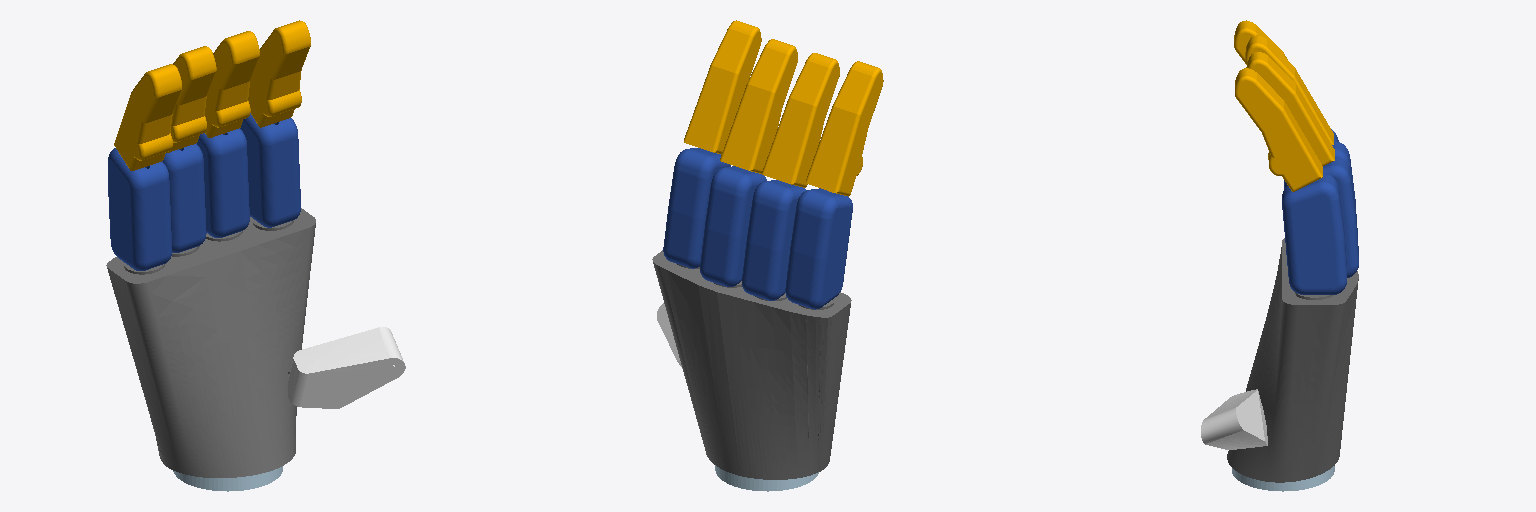
The robot description file, URDF, robot "onshape":
<robot name="onshape">
<link name="fb_palm_ref_mir_v5">
<visual>
<origin xyz="-0.003872314138682364168 -0.0071868913738217625464 -0.028909163027282983038" rpy="0 -0 0" />
<geometry>
<mesh filename="./wrist.stl"/>
</geometry>
<material name="wrist_material">
<color rgba="0.76862745098039220171 0.88627450980392152857 0.95294117647058818044 1.0"/>
</material>
</visual>
<collision>
<origin xyz="-0.003872314138682364168 -0.0071868913738217625464 -0.028909163027282983038" rpy="0 -0 0" />
<geometry>
<mesh filename="./wrist.stl"/>
</geometry>
</collision>
<visual>
<origin xyz="0.001066406426528377499 -0.0078468492029091889417 -0.021502863120379678979" rpy="-3.1415716311473289579 -0.088555241482479646331 0" />
<geometry>
<mesh filename="./palm.stl"/>
</geometry>
<material name="palm_material">
<color rgba="0.49803921568627451677 0.49803921568627451677 0.49803921568627451677 1.0"/>
</material>
</visual>
<collision>
<origin xyz="0.001066406426528377499 -0.0078468492029091889417 -0.021502863120379678979" rpy="-3.1415716311473289579 -0.088555241482479646331 0" />
<geometry>
<mesh filename="./palm.stl"/>
</geometry>
</collision>
<inertial>
<origin xyz="-0.0038105787339101984679 -0.0058483274685780213889 -0.019910745106455077919" rpy="0 0 0"/>
<mass value="0.0099179440012525446613" />
<inertia ixx="2.7342953765124291794e-07" ixy="-2.5766852703422248266e-09"  ixz="-7.76797436656968307e-09" iyy="3.467387707633750814e-07" iyz="-3.9076227236606035877e-08" izz="1.5344148801571052959e-07" />
</inertial>
</link>

<link name="idx-f1_v3">
<visual>
<origin xyz="1.4699462580549348123e-05 0.00097723995259920391765 -1.084202172485504434e-19" rpy="3.7930245966227260056e-18 -7.5322549308026134352e-17 1.5458638384718461634" />
<geometry>
<mesh filename="./index_1.stl"/>
</geometry>
<material name="index_1_material">
<color rgba="0.2313725490196078538 0.38039215686274507888 0.7058823529411765163 1.0"/>
</material>
</visual>
<collision>
<origin xyz="1.4699462580549348123e-05 0.00097723995259920391765 -1.084202172485504434e-19" rpy="3.7930245966227260056e-18 -7.5322549308026134352e-17 1.5458638384718461634" />
<geometry>
<mesh filename="./index_1.stl"/>
</geometry>
</collision>
<inertial>
<origin xyz="3.2112843083721671162e-05 0.0044842994521085578069 -4.7737139970499566233e-12" rpy="0 0 0"/>
<mass value="0.00094349406217372375986" />
<inertia ixx="6.5860738722373559062e-09" ixy="3.2790901544841979461e-10"  ixz="2.6331870605405864971e-26" iyy="2.2258360502709581268e-09" iyz="-2.2772269817168270336e-25" izz="7.3219808210304059779e-09" />
</inertial>
</link>

<link name="idx-f2-lg_v3">
<visual>
<origin xyz="0.00022233297791745924854 -0.0023719290216695364422 6.9322960369944727071e-06" rpy="5.1125602110007427365e-17 7.3954519088041169917e-17 -1.0572593838212323014" />
<geometry>
<mesh filename="./index_2.stl"/>
</geometry>
<material name="index_2_material">
<color rgba="0.98039215686274505668 0.71372549019607844922 0.0039215686274509803377 1.0"/>
</material>
</visual>
<collision>
<origin xyz="0.00022233297791745924854 -0.0023719290216695364422 6.9322960369944727071e-06" rpy="5.1125602110007427365e-17 7.3954519088041169917e-17 -1.0572593838212323014" />
<geometry>
<mesh filename="./index_2.stl"/>
</geometry>
</collision>
<inertial>
<origin xyz="-0.001046104817338249773 -0.004432125739992291702 6.5976409530707229688e-06" rpy="0 0 0"/>
<mass value="0.00052398424978570613299" />
<inertia ixx="4.2915366528124728295e-09" ixy="5.8217531578865538926e-11"  ixz="2.9039203123798735118e-13" iyy="6.2215271969257748341e-10" iyz="3.5195995450777468668e-13" izz="4.3113562724289062871e-09" />
</inertial>
</link>

<joint name="index_joint" type="revolute">
<origin xyz="-0.001540538927564456817 0.0086198297672773517564 2.710505431213761085e-19" rpy="2.8948218957230762414e-15 -1.0547304841327890295e-14 -2.6429263663145419194" />
<parent link="idx-f1_v3" />
<child link="idx-f2-lg_v3" />
<axis xyz="0 0 1"/>
<limit effort="1" velocity="20" lower="0.0" upper="2.0943951023931952626"/>
<joint_properties friction="0.0"/>
</joint>

<joint name="palm_index" type="revolute">
<origin xyz="0.0013274127561161835898 -0.0047523568131636858072 -0.011239498263663312214" rpy="1.4822410852929539526 -2.0940066997489776559e-05 1.5707981860101327687" />
<parent link="fb_palm_ref_mir_v5" />
<child link="idx-f1_v3" />
<axis xyz="0 0 1"/>
<limit effort="1" velocity="20" lower="0" upper="1.570796326794896558"/>
<joint_properties friction="0.0"/>
</joint>

<link name="idx-f1_v3_2">
<visual>
<origin xyz="1.4699462580549781804e-05 0.0009772399525992073871 4.336808689942017736e-19" rpy="3.8122062463432438003e-18 -6.8155182046868126432e-17 1.5458638384718461634" />
<geometry>
<mesh filename="./index_1.stl"/>
</geometry>
<material name="index_1_material">
<color rgba="0.2313725490196078538 0.38039215686274507888 0.7058823529411765163 1.0"/>
</material>
</visual>
<collision>
<origin xyz="1.4699462580549781804e-05 0.0009772399525992073871 4.336808689942017736e-19" rpy="3.8122062463432438003e-18 -6.8155182046868126432e-17 1.5458638384718461634" />
<geometry>
<mesh filename="./index_1.stl"/>
</geometry>
</collision>
<inertial>
<origin xyz="3.2112843083722111619e-05 0.0044842994521085612764 -4.7737134800792086948e-12" rpy="0 0 0"/>
<mass value="0.00094349406217372375986" />
<inertia ixx="6.5860738722373559062e-09" ixy="3.2790901544841979461e-10"  ixz="2.2678298720963275045e-26" iyy="2.2258360502709581268e-09" iyz="-2.1711588075651719382e-25" izz="7.3219808210304026692e-09" />
</inertial>
</link>

<link name="idx-f2-lg_v3_2">
<visual>
<origin xyz="0.00022233297791745838118 -0.0023719290216695364422 6.9322960369942558667e-06" rpy="5.4129569408464892274e-17 9.0292829778344770436e-17 -1.0572593838212323014" />
<geometry>
<mesh filename="./index_2.stl"/>
</geometry>
<material name="index_2_material">
<color rgba="0.98039215686274505668 0.71372549019607844922 0.0039215686274509803377 1.0"/>
</material>
</visual>
<collision>
<origin xyz="0.00022233297791745838118 -0.0023719290216695364422 6.9322960369942558667e-06" rpy="5.4129569408464892274e-17 9.0292829778344770436e-17 -1.0572593838212323014" />
<geometry>
<mesh filename="./index_2.stl"/>
</geometry>
</collision>
<inertial>
<origin xyz="-0.0010461048173382504235 -0.0044321257399922908346 6.5976409530704807174e-06" rpy="0 0 0"/>
<mass value="0.00052398424978570613299" />
<inertia ixx="4.2915366528124720024e-09" ixy="5.8217531578865125336e-11"  ixz="2.9039203123801108011e-13" iyy="6.2215271969257738001e-10" iyz="3.5195995450780240409e-13" izz="4.3113562724289079415e-09" />
</inertial>
</link>

<joint name="middle_joint" type="revolute">
<origin xyz="-0.001540538927564437735 0.0086198297672773569605 4.336808689942017736e-19" rpy="-1.0645765700679691443e-14 -4.5492251087631363691e-15 -2.6429263663145454721" />
<parent link="idx-f1_v3_2" />
<child link="idx-f2-lg_v3_2" />
<axis xyz="0 0 1"/>
<limit effort="1" velocity="20" lower="0.0" upper="2.0943951023931952626"/>
<joint_properties friction="0.0"/>
</joint>

<joint name="palm_middle" type="revolute">
<origin xyz="-0.0024254965095490297819 -0.003847063442716395186 -0.01157269041696425485" rpy="1.4822410852929528424 -2.0940066999008896269e-05 1.5707981860101365434" />
<parent link="fb_palm_ref_mir_v5" />
<child link="idx-f1_v3_2" />
<axis xyz="0 0 1"/>
<limit effort="1" velocity="20" lower="0" upper="1.570796326794896558"/>
<joint_properties friction="0.0"/>
</joint>

<link name="idx-f1_v3_3">
<visual>
<origin xyz="1.4699462580549348123e-05 0.00097723995259920565237 0" rpy="3.8122062463432438003e-18 -6.8155182046868126432e-17 1.5458638384718461634" />
<geometry>
<mesh filename="./index_1.stl"/>
</geometry>
<material name="index_1_material">
<color rgba="0.2313725490196078538 0.38039215686274507888 0.7058823529411765163 1.0"/>
</material>
</visual>
<collision>
<origin xyz="1.4699462580549348123e-05 0.00097723995259920565237 0" rpy="3.8122062463432438003e-18 -6.8155182046868126432e-17 1.5458638384718461634" />
<geometry>
<mesh filename="./index_1.stl"/>
</geometry>
</collision>
<inertial>
<origin xyz="3.2112843083721684715e-05 0.0044842994521085595416 -4.773713913760077689e-12" rpy="0 0 0"/>
<mass value="0.00094349406217372375986" />
<inertia ixx="6.5860738722373559062e-09" ixy="3.2790901544841979461e-10"  ixz="2.2678298720963275045e-26" iyy="2.2258360502709581268e-09" iyz="-2.1711588075651719382e-25" izz="7.3219808210304026692e-09" />
</inertial>
</link>

<link name="idx-f2-lg_v3_3">
<visual>
<origin xyz="0.00022233297791745751382 -0.0023719290216695364422 6.9322960369946895476e-06" rpy="5.4129569408464892274e-17 9.0292829778344770436e-17 -1.0572593838212323014" />
<geometry>
<mesh filename="./index_2.stl"/>
</geometry>
<material name="index_2_material">
<color rgba="0.98039215686274505668 0.71372549019607844922 0.0039215686274509803377 1.0"/>
</material>
</visual>
<collision>
<origin xyz="0.00022233297791745751382 -0.0023719290216695364422 6.9322960369946895476e-06" rpy="5.4129569408464892274e-17 9.0292829778344770436e-17 -1.0572593838212323014" />
<geometry>
<mesh filename="./index_2.stl"/>
</geometry>
</collision>
<inertial>
<origin xyz="-0.0010461048173382512909 -0.0044321257399922908346 6.5976409530709143983e-06" rpy="0 0 0"/>
<mass value="0.00052398424978570613299" />
<inertia ixx="4.2915366528124720024e-09" ixy="5.8217531578865125336e-11"  ixz="2.9039203123801108011e-13" iyy="6.2215271969257738001e-10" iyz="3.5195995450780240409e-13" izz="4.3113562724289079415e-09" />
</inertial>
</link>

<joint name="ring_joint" type="revolute">
<origin xyz="-0.0015405389275644368677 0.0086198297672773552258 -8.6736173798840354721e-19" rpy="-1.0645765700679691443e-14 -4.5492251087631363691e-15 -2.6429263663145454721" />
<parent link="idx-f1_v3_3" />
<child link="idx-f2-lg_v3_3" />
<axis xyz="0 0 1"/>
<limit effort="1" velocity="20" lower="0.0" upper="2.0943951023931952626"/>
<joint_properties friction="0.0"/>
</joint>

<joint name="palm_ring" type="revolute">
<origin xyz="-0.0060869529459405017843 -0.0039160049841819597263 -0.01189778326773815488" rpy="1.4822410852929528424 -2.0940066999008896269e-05 1.5707981860101365434" />
<parent link="fb_palm_ref_mir_v5" />
<child link="idx-f1_v3_3" />
<axis xyz="0 0 1"/>
<limit effort="1" velocity="20" lower="0" upper="1.570796326794896558"/>
<joint_properties friction="0.0"/>
</joint>

<link name="idx-f1_v3_4">
<visual>
<origin xyz="1.4699462580551082846e-05 0.00097723995259920565237 -3.4694469519536141888e-18" rpy="3.6709854463767563652e-18 -6.2219440531689962972e-17 1.5458638384718461634" />
<geometry>
<mesh filename="./index_1.stl"/>
</geometry>
<material name="index_1_material">
<color rgba="0.2313725490196078538 0.38039215686274507888 0.7058823529411765163 1.0"/>
</material>
</visual>
<collision>
<origin xyz="1.4699462580551082846e-05 0.00097723995259920565237 -3.4694469519536141888e-18" rpy="3.6709854463767563652e-18 -6.2219440531689962972e-17 1.5458638384718461634" />
<geometry>
<mesh filename="./index_1.stl"/>
</geometry>
</collision>
<inertial>
<origin xyz="3.2112843083723419438e-05 0.0044842994521085595416 -4.7737174040300236342e-12" rpy="0 0 0"/>
<mass value="0.00094349406217372375986" />
<inertia ixx="6.5860738722373559062e-09" ixy="3.2790901544841979461e-10"  ixz="2.068500194788456052e-26" iyy="2.2258360502709581268e-09" iyz="-2.8897771730561092328e-25" izz="7.3219808210304026692e-09" />
</inertial>
</link>

<link name="idx-f2-lg_v3_4">
<visual>
<origin xyz="0.00022233297791745838118 -0.0023719290216695360085 6.9322960369946895476e-06" rpy="6.0331530974568247685e-17 8.0286827294417669552e-17 -1.0572593838212323014" />
<geometry>
<mesh filename="./index_2.stl"/>
</geometry>
<material name="index_2_material">
<color rgba="0.98039215686274505668 0.71372549019607844922 0.0039215686274509803377 1.0"/>
</material>
</visual>
<collision>
<origin xyz="0.00022233297791745838118 -0.0023719290216695360085 6.9322960369946895476e-06" rpy="6.0331530974568247685e-17 8.0286827294417669552e-17 -1.0572593838212323014" />
<geometry>
<mesh filename="./index_2.stl"/>
</geometry>
</collision>
<inertial>
<origin xyz="-0.0010461048173382504235 -0.0044321257399922908346 6.5976409530709127042e-06" rpy="0 0 0"/>
<mass value="0.00052398424978570613299" />
<inertia ixx="4.2915366528124711752e-09" ixy="5.8217531578865138261e-11"  ixz="2.9039203123796867095e-13" iyy="6.2215271969257758681e-10" iyz="3.5195995450774207201e-13" izz="4.3113562724289079415e-09" />
</inertial>
</link>

<joint name="pinky_joint" type="revolute">
<origin xyz="-0.0015405389275644368677 0.0086198297672773552258 -1.7347234759768070944e-18" rpy="-1.0612796375347564885e-14 -4.1546907435576699275e-15 -2.6429263663145454721" />
<parent link="idx-f1_v3_4" />
<child link="idx-f2-lg_v3_4" />
<axis xyz="0 0 1"/>
<limit effort="1" velocity="20" lower="0.0" upper="2.0943951023931952626"/>
<joint_properties friction="0.0"/>
</joint>

<joint name="palm_pinky" type="revolute">
<origin xyz="-0.0094418163867134880657 -0.0047880035395979530025 -0.012195671455579346759" rpy="1.4822410852929528424 -2.0940066999005426822e-05 1.5707981860101365434" />
<parent link="fb_palm_ref_mir_v5" />
<child link="idx-f1_v3_4" />
<axis xyz="0 0 1"/>
<limit effort="1" velocity="20" lower="0" upper="1.570796326794896558"/>
<joint_properties friction="0.0"/>
</joint>

<link name="thumb-f1-mir_v3">
<visual>
<origin xyz="0.00017557979167350055288 0.0010577602612661905768 7.465894274546330811e-05" rpy="-3.1404292829428253064 -4.0581339344037132962e-17 0.69123283091690213009" />
<geometry>
<mesh filename="./thumb_1.stl"/>
</geometry>
<material name="thumb_1_material">
<color rgba="0.91764705882352937127 0.91764705882352937127 0.91764705882352937127 1.0"/>
</material>
</visual>
<collision>
<origin xyz="0.00017557979167350055288 0.0010577602612661905768 7.465894274546330811e-05" rpy="-3.1404292829428253064 -4.0581339344037132962e-17 0.69123283091690213009" />
<geometry>
<mesh filename="./thumb_1.stl"/>
</geometry>
</collision>
<inertial>
<origin xyz="0.0020014421990982096851 0.0031202717603482843164 -0.0010150934047534732572" rpy="0 0 0"/>
<mass value="0.00054462429541117063185" />
<inertia ixx="2.1109039290687420253e-09" ixy="-7.9817865869071428504e-10"  ixz="5.2943649390968101632e-10" iyy="1.9864762678676289657e-09" iyz="5.495094795738628708e-10" izz="2.3993427554798496221e-09" />
</inertial>
</link>

<link name="thumb-f2-right_v3">
<visual>
<origin xyz="0.0010313505443626178049 0.0024507775814466004061 -0.00078947225603720472265" rpy="3.6391441414432697617e-17 -1.547525477140208885e-17 -3.5654402414011603593e-17" />
<geometry>
<mesh filename="./thumb_2.stl"/>
</geometry>
<material name="thumb_2_material">
<color rgba="0.64705882352941179736 0.64705882352941179736 0.64705882352941179736 1.0"/>
</material>
</visual>
<collision>
<origin xyz="0.0010313505443626178049 0.0024507775814466004061 -0.00078947225603720472265" rpy="3.6391441414432697617e-17 -1.547525477140208885e-17 -3.5654402414011603593e-17" />
<geometry>
<mesh filename="./thumb_2.stl"/>
</geometry>
</collision>
<inertial>
<origin xyz="0.0066383788263536750579 0.0035590142615154556592 -7.5213638658577276243e-05" rpy="0 0 0"/>
<mass value="0.0027039006703750588165" />
<inertia ixx="1.7318697430115383524e-08" ixy="-1.3057533352685778855e-08"  ixz="7.0633170587282531833e-11" iyy="3.8957351364547130482e-08" iyz="1.5992304266435327577e-11" izz="4.6668567306636538128e-08" />
</inertial>
</link>

<joint name="thumb_joint" type="revolute">
<origin xyz="0.0041333900470498265156 0.0056421827988947133303 -0.0025961400013548227572" rpy="-2.7683448409419399994 1.1780681076743528823 2.8389624729172124873" />
<parent link="thumb-f1-mir_v3" />
<child link="thumb-f2-right_v3" />
<axis xyz="0 0 1"/>
<limit effort="1" velocity="20" lower="-1.0471975511965976313" upper="1.0471975511965976313"/>
<joint_properties friction="0.0"/>
</joint>

<joint name="palm_thumb" type="revolute">
<origin xyz="0.00024641359117504046689 -0.0089114531485886168405 -0.021731039236487736249" rpy="-2.903561262052796188 -0.03499041734889562355 0.55828575372703770352" />
<parent link="fb_palm_ref_mir_v5" />
<child link="thumb-f1-mir_v3" />
<axis xyz="0 0 1"/>
<limit effort="1" velocity="20" lower="0" upper="1.570796326794896558"/>
<joint_properties friction="0.0"/>
</joint>


</robot>

--- What the picture shows (computed from the rendered views, not written in the file) ---
3 views of the same robot in one strip: view 1: azimuth 30°, elevation 25°; view 2: azimuth 150°, elevation 25°; view 3: azimuth 270°, elevation 25° (orthographic).
Model onshape with 11 links and 10 joints (10 revolute), rooted at fb_palm_ref_mir_v5, posed all joints at 0.
Links seen in each view (by area): view 1: fb_palm_ref_mir_v5, thumb-f1-mir_v3, idx-f1_v3_4, idx-f1_v3, idx-f2-lg_v3_4, idx-f2-lg_v3, idx-f1_v3_2, idx-f2-lg_v3_2, idx-f1_v3_3, idx-f2-lg_v3_3; view 2: fb_palm_ref_mir_v5, idx-f1_v3_4, idx-f2-lg_v3_4, idx-f2-lg_v3_3, idx-f2-lg_v3_2, idx-f2-lg_v3, idx-f1_v3_3, idx-f1_v3_2, idx-f1_v3; view 3: fb_palm_ref_mir_v5, idx-f1_v3, idx-f2-lg_v3, thumb-f1-mir_v3, idx-f2-lg_v3_2, idx-f1_v3_2, idx-f2-lg_v3_3, idx-f2-lg_v3_4.
Boxes of the visible links, <box> form: fb_palm_ref_mir_v5: <box>106,208,315,491</box>; thumb-f1-mir_v3: <box>288,327,405,408</box>; idx-f1_v3_4: <box>108,148,171,270</box>; idx-f1_v3: <box>240,113,300,227</box>; idx-f2-lg_v3_4: <box>114,64,181,170</box>; idx-f2-lg_v3: <box>248,20,310,127</box>; idx-f1_v3_2: <box>197,128,249,237</box>; idx-f2-lg_v3_2: <box>205,31,259,137</box>; idx-f1_v3_3: <box>163,143,206,252</box>; idx-f2-lg_v3_3: <box>166,46,216,152</box>; fb_palm_ref_mir_v5: <box>652,250,851,491</box>; idx-f1_v3_4: <box>785,188,852,309</box>; idx-f2-lg_v3_4: <box>806,61,883,196</box>; idx-f2-lg_v3_3: <box>762,53,839,187</box>; idx-f2-lg_v3_2: <box>720,39,797,173</box>; idx-f2-lg_v3: <box>684,20,761,154</box>; idx-f1_v3_3: <box>742,180,806,300</box>; idx-f1_v3_2: <box>700,166,766,286</box>; idx-f1_v3: <box>663,148,730,268</box>; fb_palm_ref_mir_v5: <box>1227,238,1358,491</box>; idx-f1_v3: <box>1282,174,1346,294</box>; idx-f2-lg_v3: <box>1235,68,1322,191</box>; thumb-f1-mir_v3: <box>1201,389,1267,449</box>; idx-f2-lg_v3_2: <box>1246,52,1334,165</box>; idx-f1_v3_2: <box>1323,157,1358,277</box>; idx-f2-lg_v3_3: <box>1245,35,1333,144</box>; idx-f2-lg_v3_4: <box>1234,20,1287,63</box>.
Size in the robot's own frame: 0.0199 by 0.0123 by 0.0357 metres.
11 mesh visuals loaded from 6 distinct referenced files (5 binary STL); not drawn: 1 (reference not matched to a file when rendering).